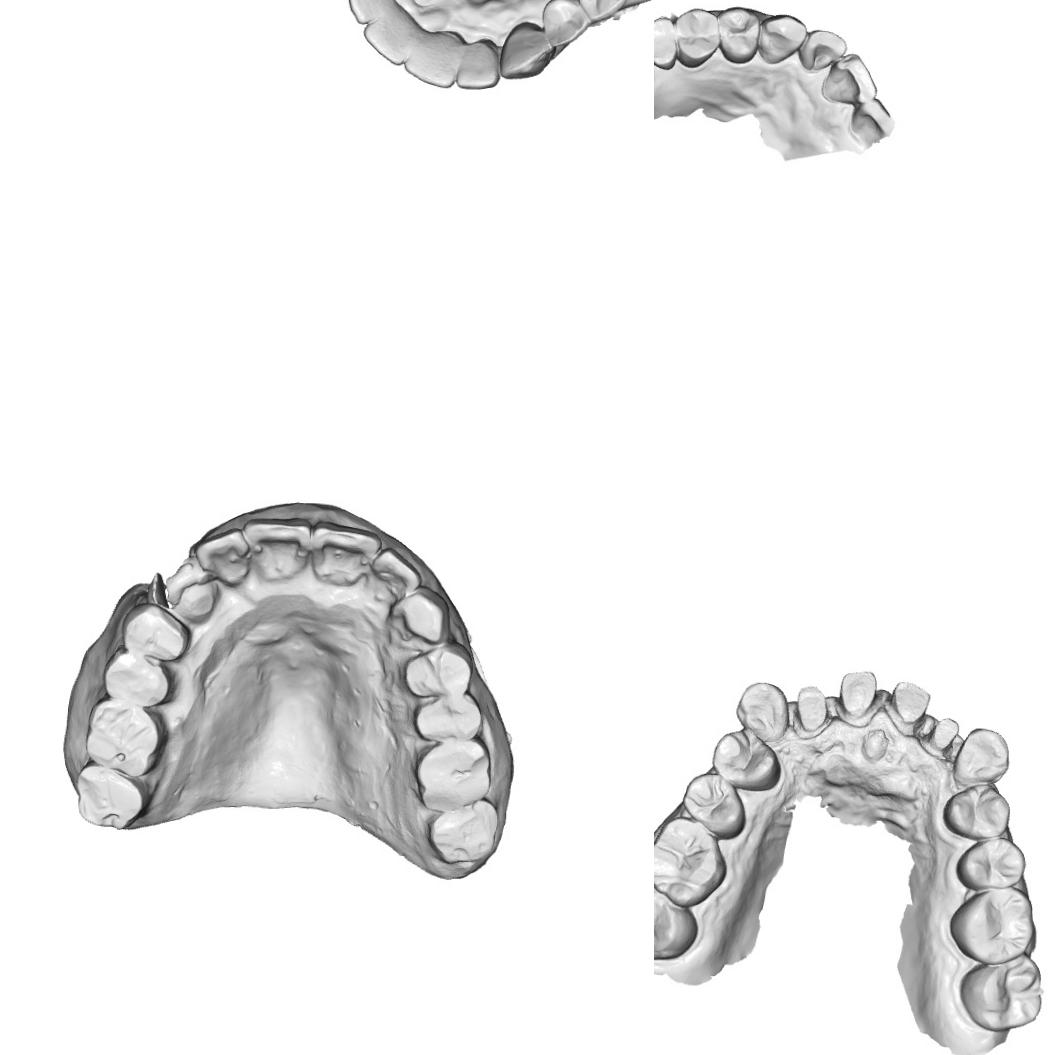canine: (950, 726, 1010, 790), (498, 19, 558, 81), (393, 586, 452, 647), (734, 680, 790, 743), (756, 13, 808, 66)
crown: (834, 667, 880, 728), (888, 678, 932, 738), (792, 682, 832, 737), (924, 716, 960, 758)
incisor: (240, 514, 312, 586), (310, 519, 382, 587), (192, 526, 250, 589), (362, 4, 418, 66), (402, 30, 458, 88), (820, 52, 878, 105), (372, 545, 424, 600), (456, 38, 500, 90), (798, 28, 848, 72), (850, 98, 896, 145), (344, 0, 394, 25)
molar: (958, 950, 1044, 1032), (948, 886, 1036, 966), (80, 696, 164, 779), (654, 814, 728, 908), (413, 738, 493, 813), (72, 763, 148, 833), (427, 797, 503, 866), (654, 878, 700, 962), (654, 16, 678, 71)
premolar: (708, 726, 782, 793), (678, 772, 747, 840), (120, 600, 192, 664), (100, 650, 176, 708), (941, 782, 1012, 842), (410, 690, 486, 746), (955, 836, 1028, 892), (402, 646, 474, 700), (672, 6, 720, 68), (716, 5, 761, 65), (540, 0, 589, 49), (573, 0, 629, 25)
